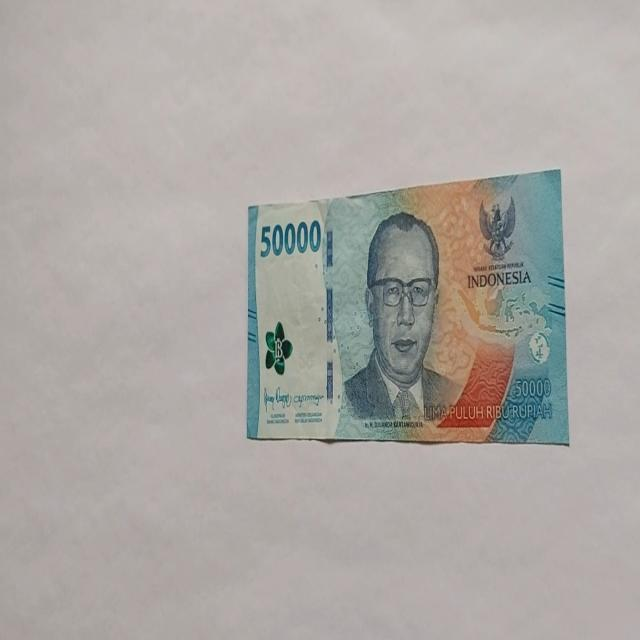lima puluh ribu rupiah: (245, 168, 569, 446), (336, 210, 464, 434)
